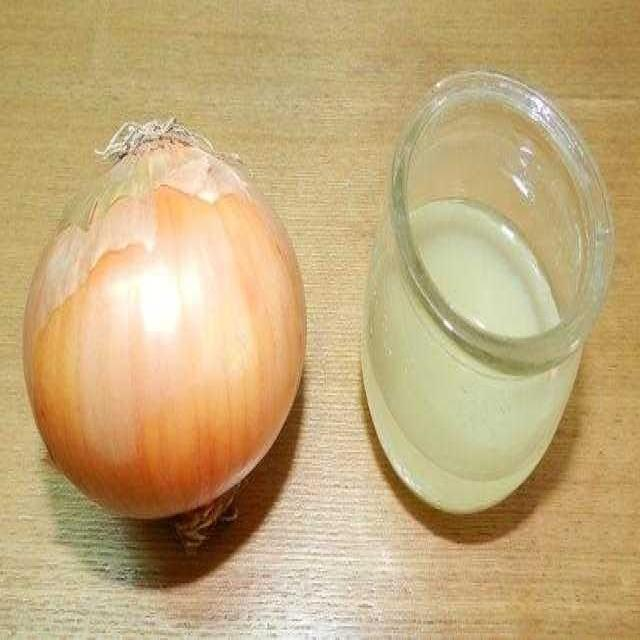onion: (23, 115, 308, 556)
